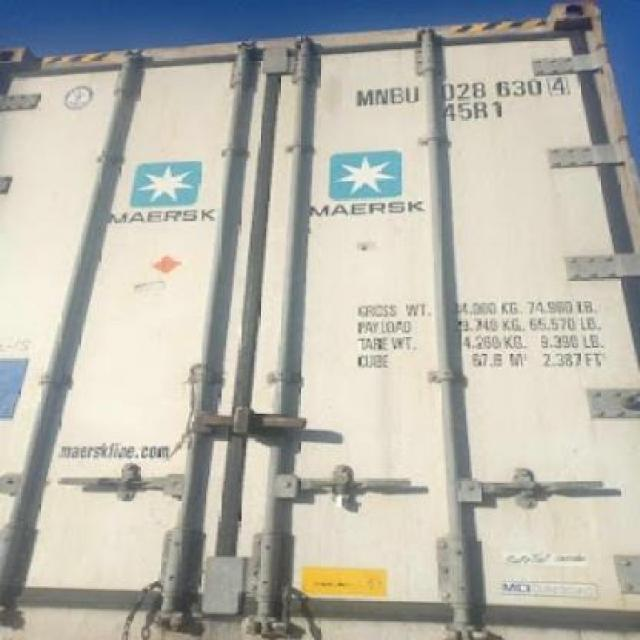ISO: (447, 101, 508, 124)
container_number: (356, 77, 560, 111)
